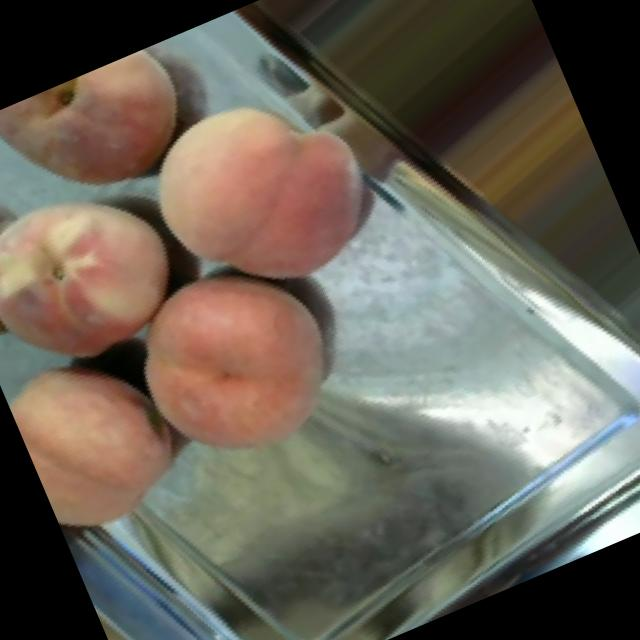Fruit: (101, 28, 428, 352), (98, 206, 389, 511), (370, 17, 622, 288), (0, 128, 216, 399), (0, 317, 220, 567), (0, 31, 238, 258), (198, 0, 426, 88), (84, 543, 245, 640)
